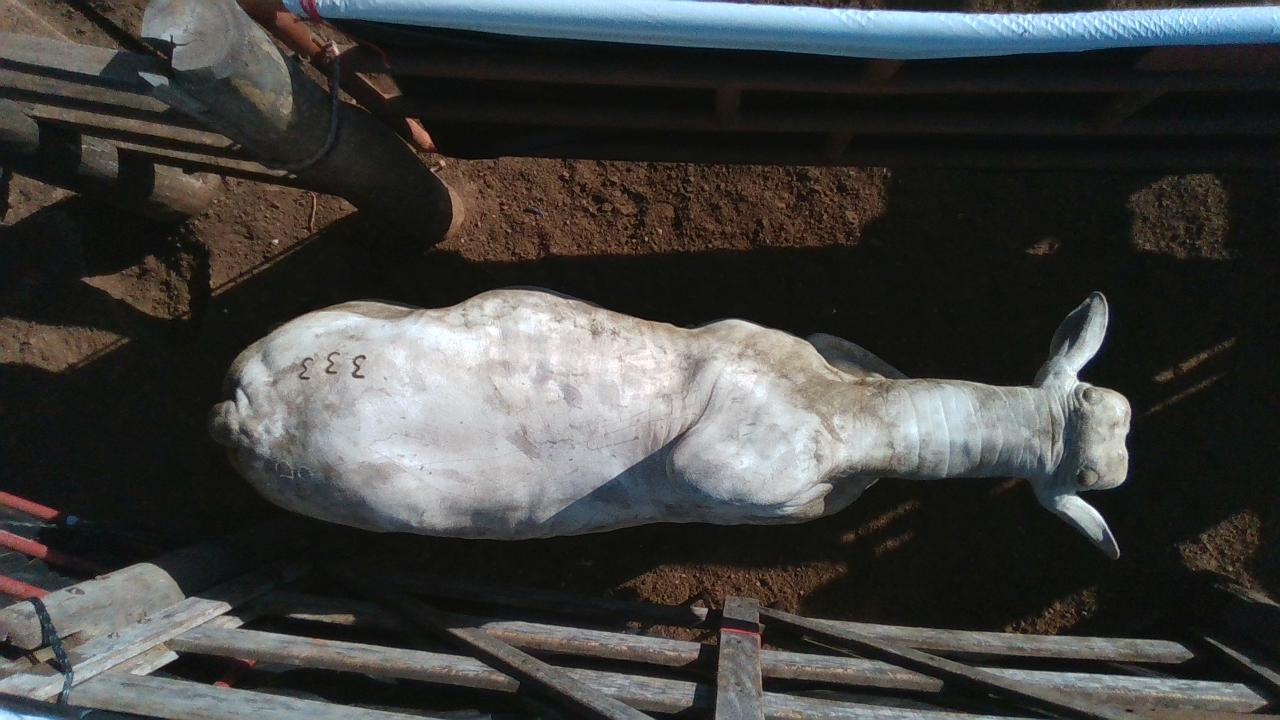cattle: (205, 283, 1132, 560)
